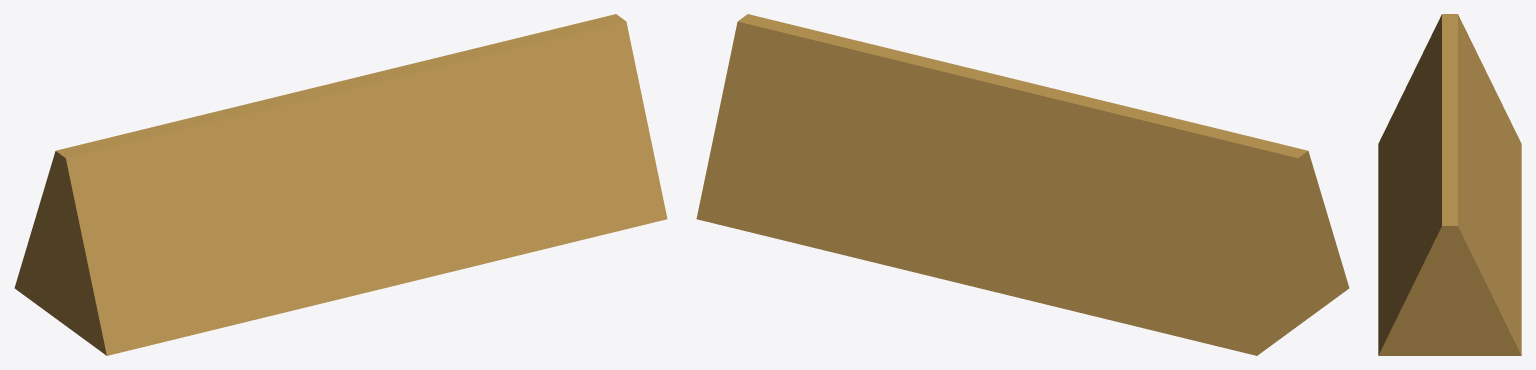
Rendered from Placard.fbx.
The picture shows the model from 3 angles, left to right: view 1: azimuth 30°, elevation 25°; view 2: azimuth 150°, elevation 25°; view 3: azimuth 270°, elevation 25°; orthographic projection. The views are drawn at different scales.
Visible parts, largest first — view 1: Cube; view 2: Cube; view 3: Cube.
Part boxes in pixels (left/top/right/bottom): Cube: left=14, top=14, right=667, bottom=355; Cube: left=696, top=14, right=1349, bottom=355; Cube: left=1378, top=14, right=1521, bottom=355.
Size of the model in its own units: 70 by 20 by 20.
